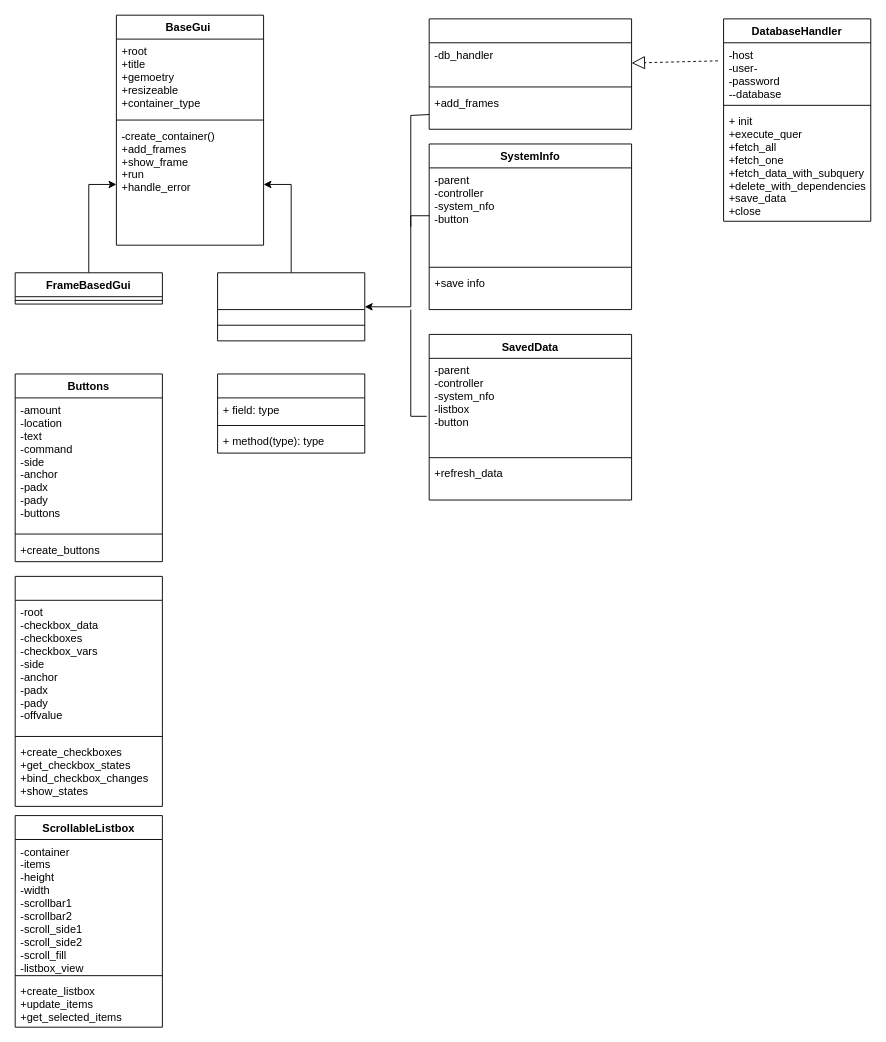
This 886x1042 diagram has some shape labels left out. The box of each missing label's shape, as (x1, y1, x2, y2) in pixels:
CheckButtons: (14, 575, 162, 806)
InnerNotebookTab: (217, 373, 365, 453)
NoteBook BasedGui: (217, 272, 365, 341)
SystemInfoApp: (428, 18, 632, 129)
